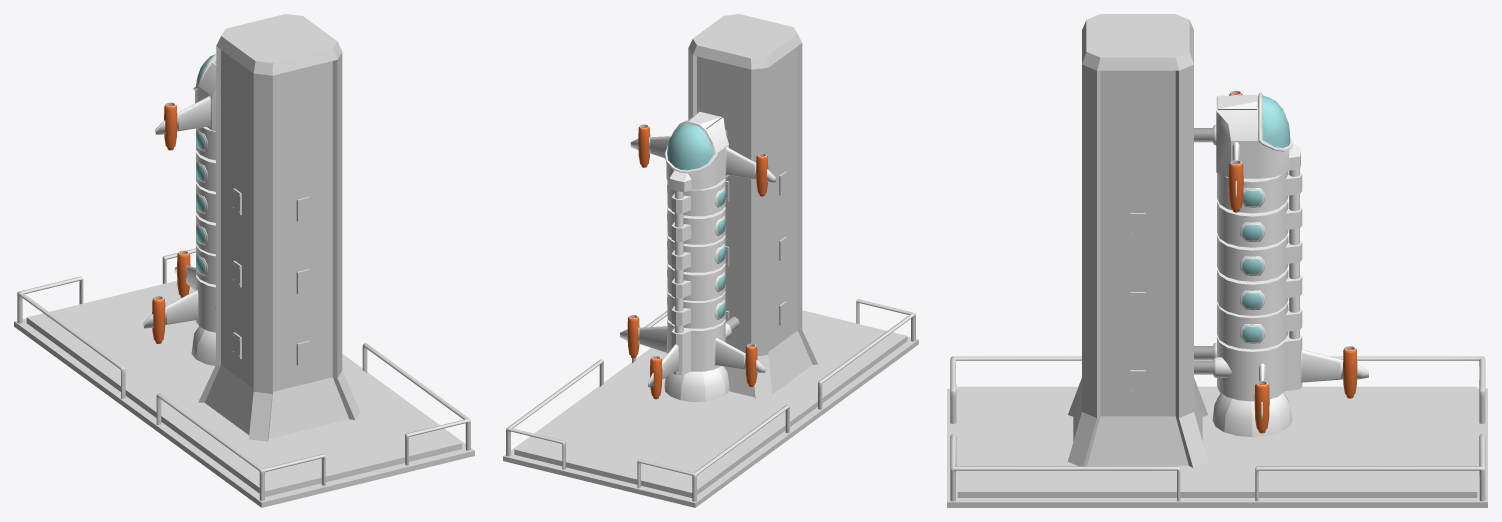
File: Rocket_Ramp.fbx
3 renders of one model, left to right at view 1: azimuth 30°, elevation 25°; view 2: azimuth 150°, elevation 25°; view 3: azimuth 270°, elevation 25°, orthographic. The views are drawn at different scales.
Visible parts, largest first — view 1: Cube.007, landingpad, Plane.027; view 2: landingpad, Cube.007, Plane.027; view 3: landingpad, Cube.007, Plane.027.
Boxes of the visible parts, box(x1,y1,x2,y2) form: Cube.007: box(198, 14, 360, 441); landingpad: box(14, 248, 474, 507); Plane.027: box(143, 54, 216, 365); landingpad: box(503, 299, 918, 507); Cube.007: box(688, 14, 818, 399); Plane.027: box(620, 112, 775, 401); landingpad: box(947, 356, 1487, 507); Cube.007: box(1068, 14, 1208, 467); Plane.027: box(1194, 90, 1368, 437).
Bounding box in the file's own units: 7.16 × 12.19 × 14.41.
